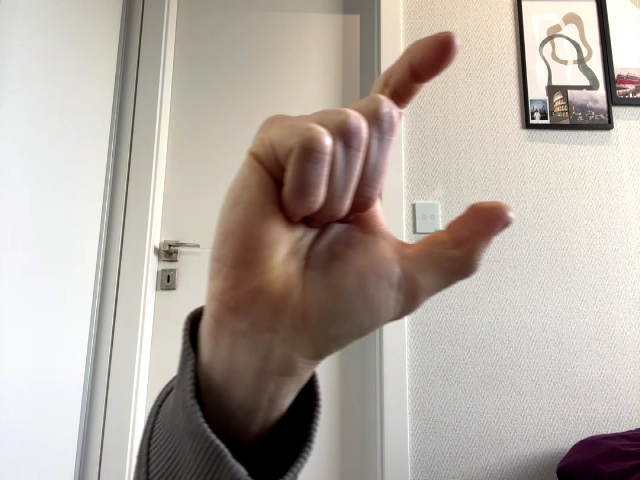C: (207, 31, 513, 359)
